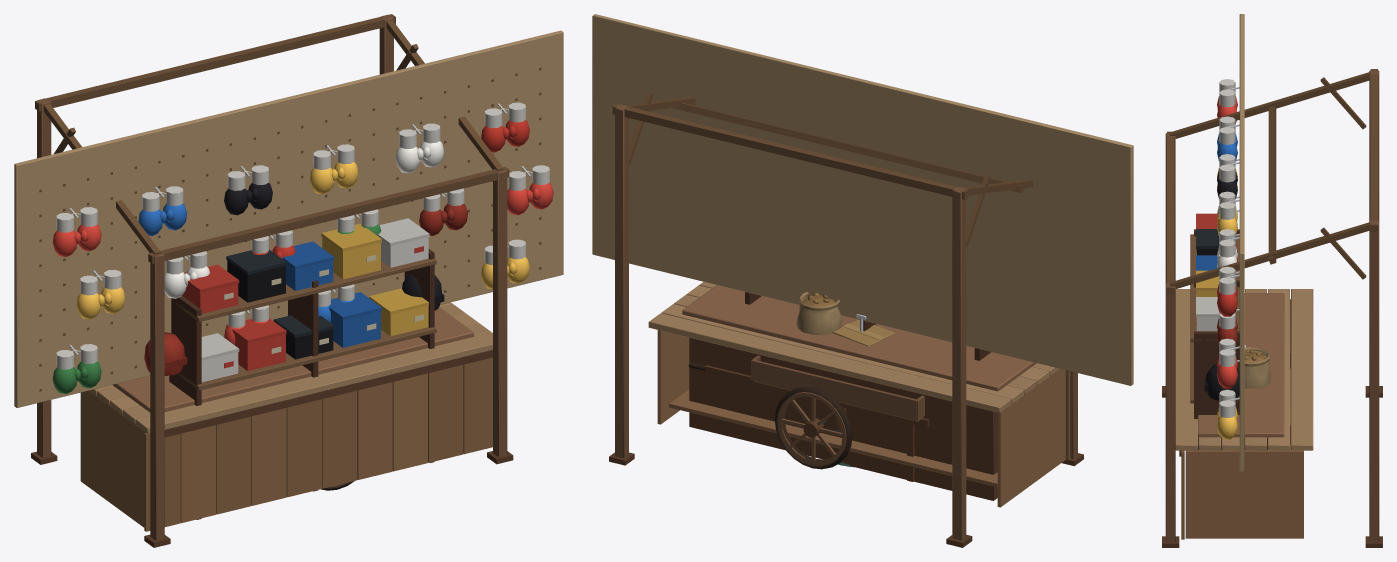
Rendered from gloryland-market-props.glb.
3 renders of one model, left to right at view 1: azimuth 30°, elevation 25°; view 2: azimuth 150°, elevation 25°; view 3: azimuth 270°, elevation 25°, orthographic. The views are drawn at different scales.
Visible parts, largest first — view 1: Glove_wall, Stall_counter, Shop_shelf, Shop_counter; view 2: Glove_wall, Stall_counter, Shop_counter, Hand_cart, Shop_cartons; view 3: Stall_counter, Glove_wall, Shop_counter, Shop_shelf, Hand_cart.
Boxes of the visible parts, x1,y1,x2,y2 form: Glove_wall: [14, 30, 563, 407]; Stall_counter: [31, 14, 513, 547]; Shop_shelf: [169, 218, 436, 519]; Shop_counter: [113, 307, 473, 412]; Glove_wall: [592, 14, 1133, 385]; Stall_counter: [609, 93, 1083, 547]; Shop_counter: [682, 285, 1036, 500]; Hand_cart: [688, 292, 929, 481]; Shop_cartons: [832, 319, 895, 346]; Stall_counter: [1162, 69, 1382, 547]; Glove_wall: [1204, 14, 1244, 471]; Shop_counter: [1198, 293, 1284, 450]; Shop_shelf: [1190, 213, 1239, 450]; Hand_cart: [1244, 347, 1290, 444].
Size of the model in its own units: 4.6 by 3.01 by 1.79.
